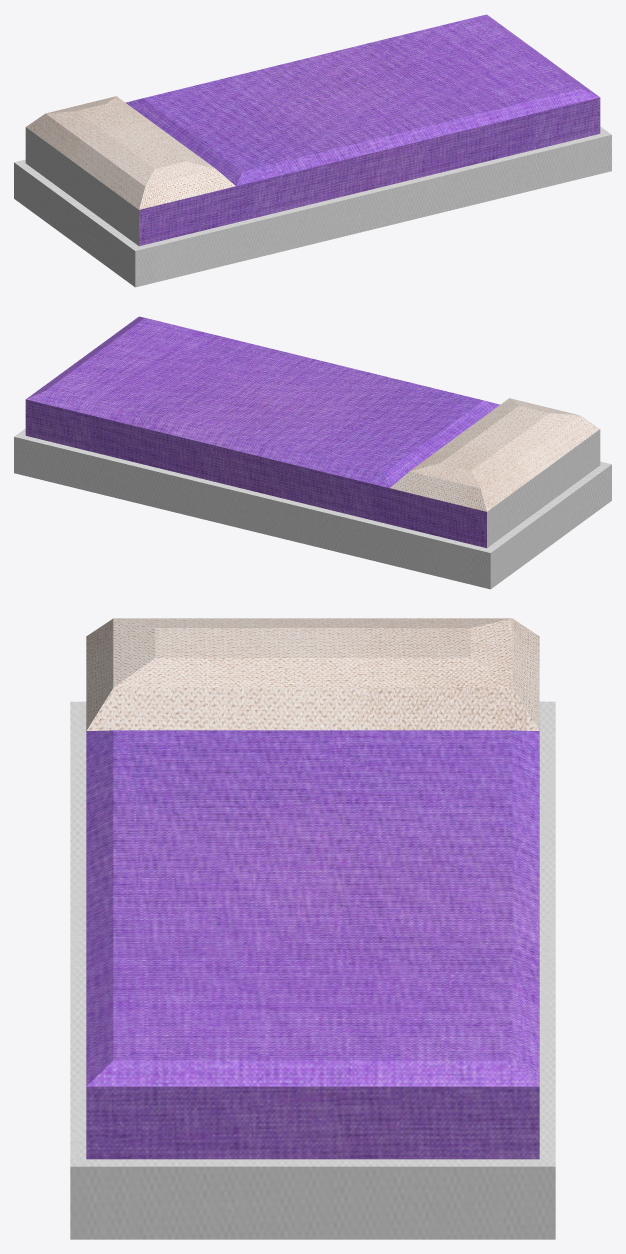
File: BED_01.fbx
The picture shows the model from 3 angles, top to bottom: view 1: azimuth 30°, elevation 25°; view 2: azimuth 150°, elevation 25°; view 3: azimuth 270°, elevation 25°; orthographic projection. The views are drawn at different scales.
Visible parts, largest first — view 1: BED_01; view 2: BED_01; view 3: BED_01.
Boxes of the visible parts, left/top/right/bottom form: BED_01: left=14, top=14, right=611, bottom=287; BED_01: left=14, top=316, right=611, bottom=589; BED_01: left=70, top=618, right=555, bottom=1239.
Size of the model in its own units: 310 by 57.78 by 136.
